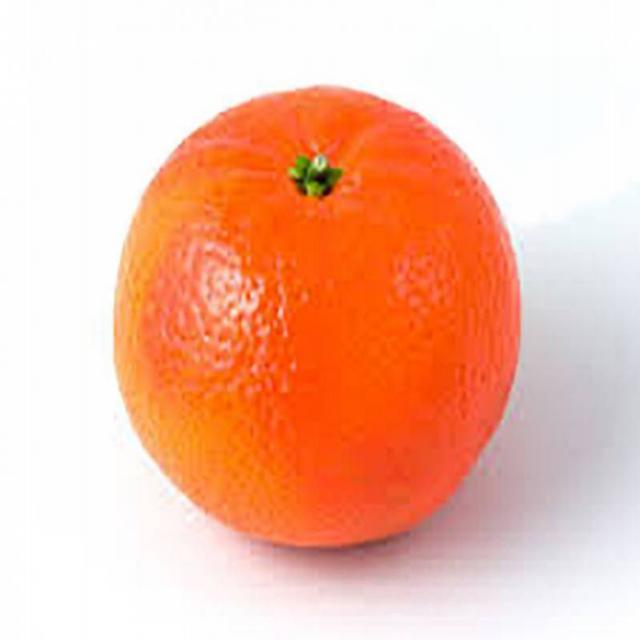Orange: (112, 86, 520, 554)
